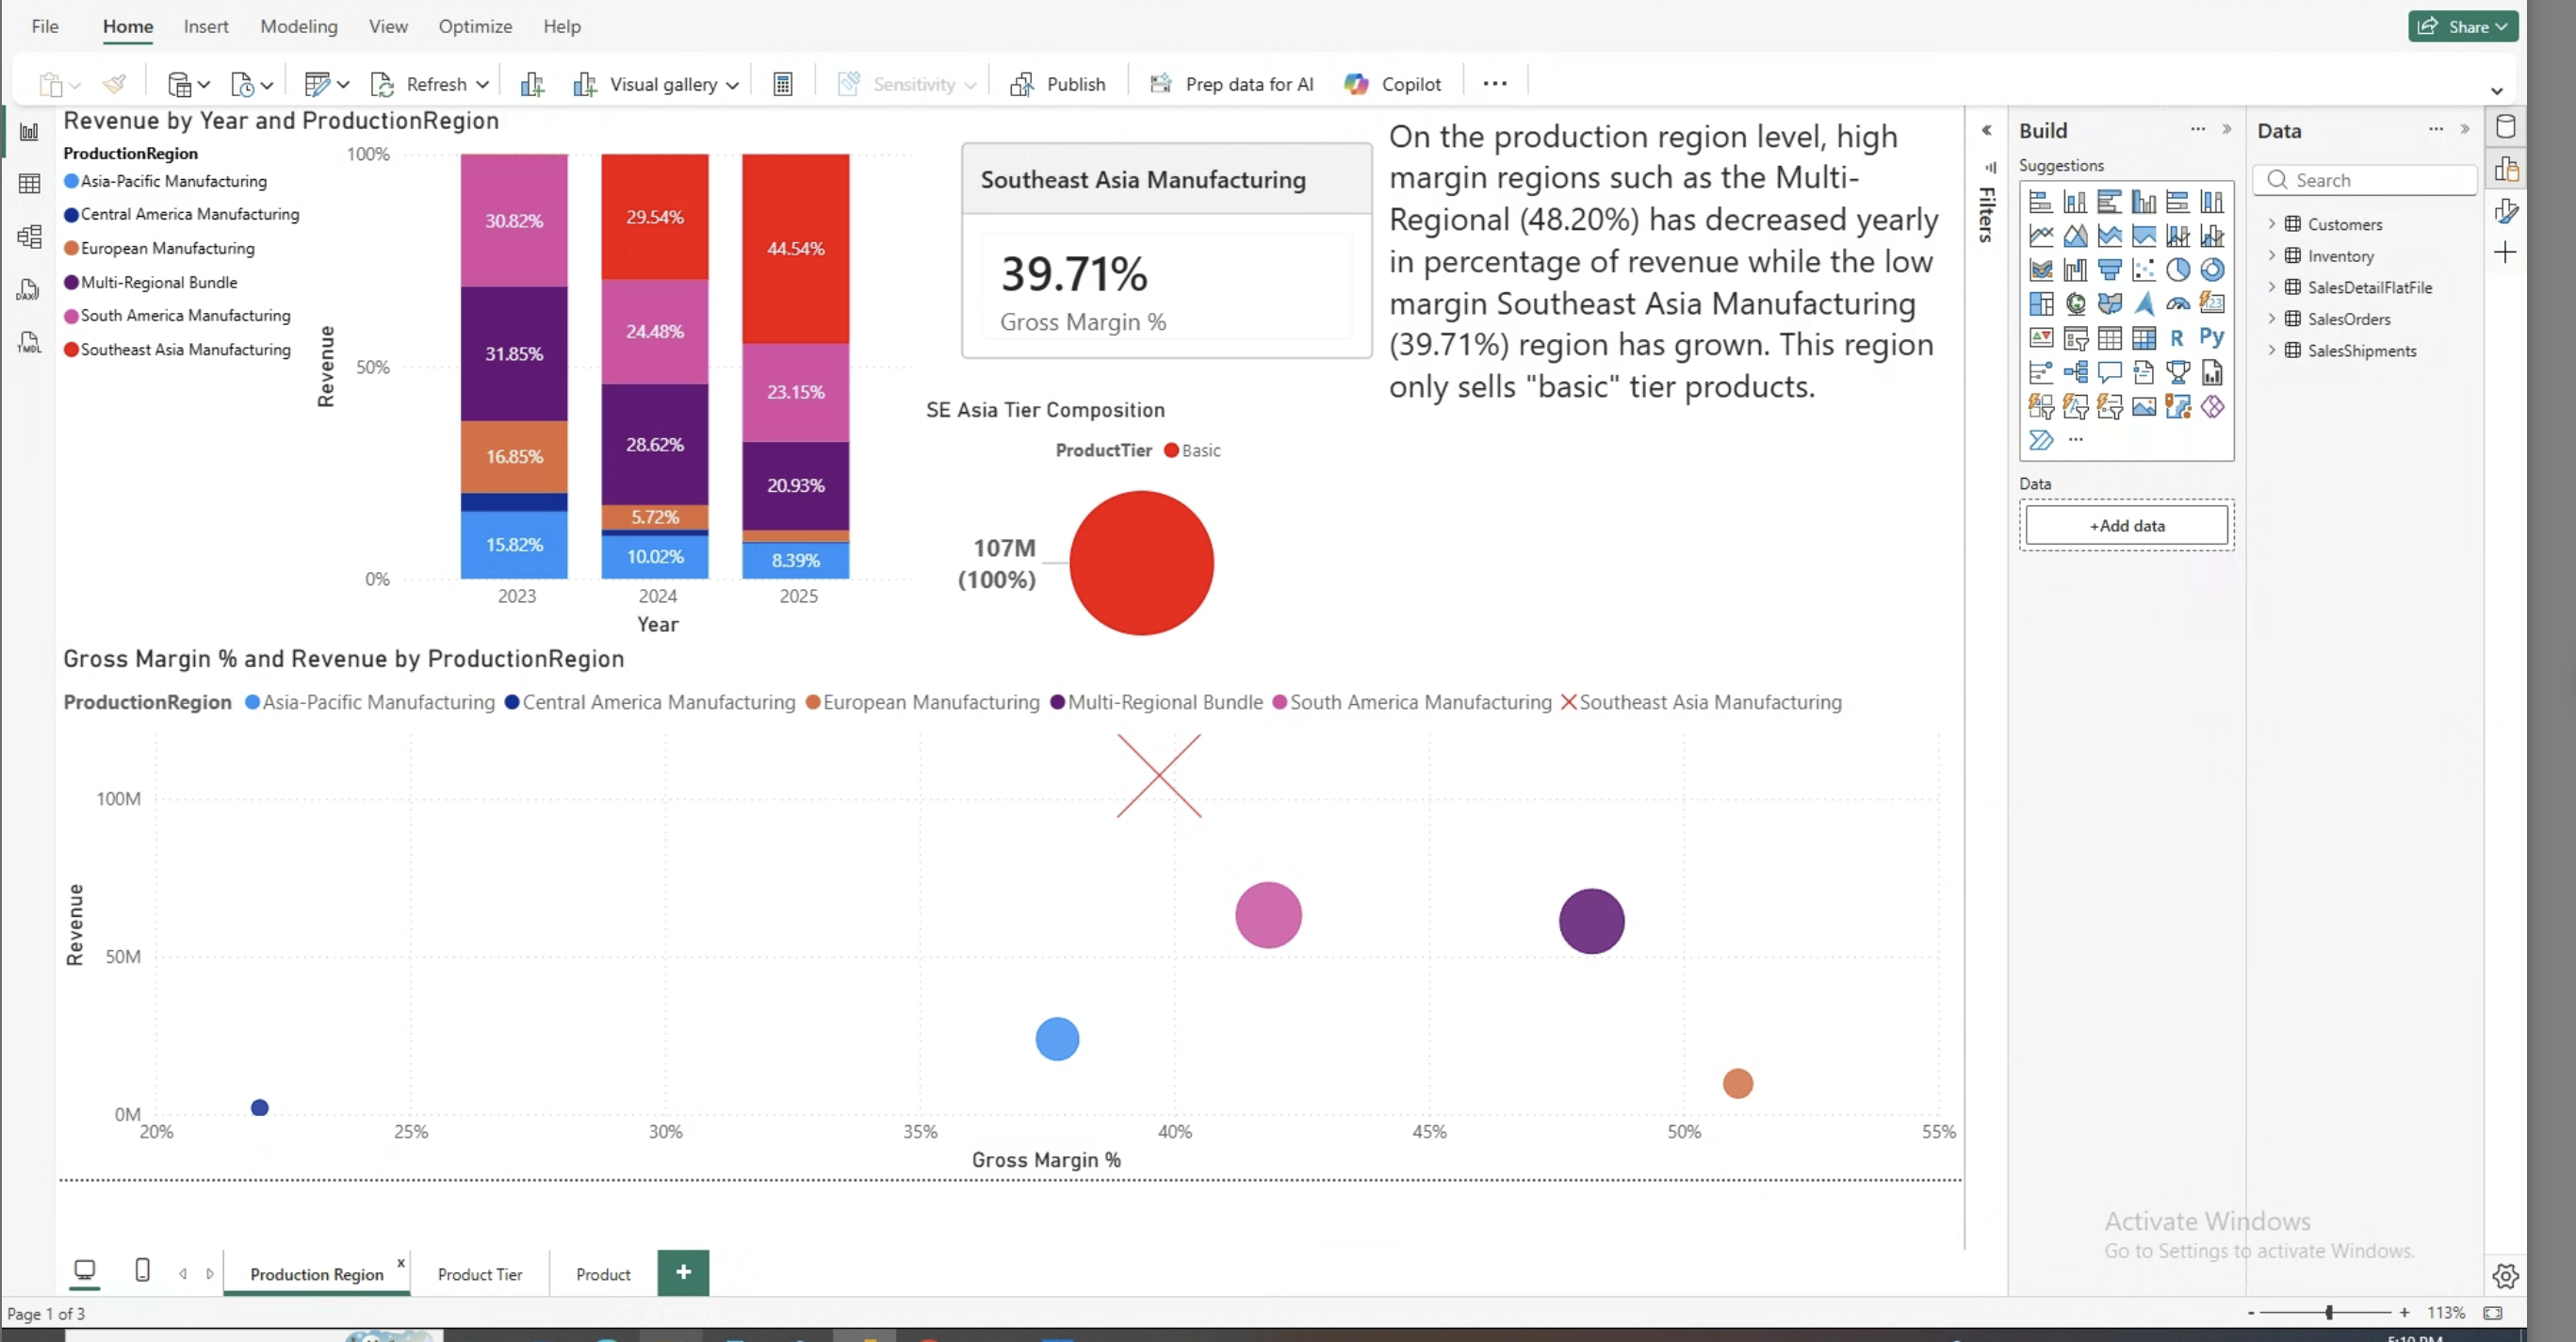

The dashboard page shown, as its layout file describes it:
{"tool":"powerbi","page":{"name":"Production Region","canvas":[1280,720],"ordinal":0},"visuals":[{"type":"hundredPercentStackedColumnChart","fields":{"Category":["SalesOrders.SalesOrderDate.Variation.Date Hierarchy.Year"],"Series":["Inventory.ProductionRegion"],"Y":["SalesOrders.Revenue"]},"box":[0,0,579.1,360.5],"z":0},{"type":"scatterChart","title":"Gross Margin % and Revenue by ProductionRegion","fields":{"X":["SalesOrders.Gross Margin %"],"Y":["SalesOrders.Revenue"],"Category":["Inventory.ProductionRegion"],"Series":["Inventory.ProductionRegion"],"Size":["SalesOrders.Revenue"]},"box":[0,360.5,1279.7,359],"z":1000},{"type":"cardVisual","fields":{"Data":["SalesOrders.Gross Margin %"],"Rows":["Inventory.ProductionRegion"]},"box":[602.2,0,286.6,195.4],"z":2000},{"type":"pieChart","title":"SE Asia Tier Composition","fields":{"Y":["SalesOrders.Revenue"],"Series":["Inventory.ProductTier"]},"box":[579.1,195.4,299.7,178.1],"z":3000},{"type":"textbox","box":[888.9,0,390.9,360.5],"z":4000}]}

Visuals, with their boxes on the page's 1280x720 design canvas (x1, y1, x2, y2). These are canvas units, not pixel positions in the 2576x1342 screenshot, which may show the page scaled, cropped or inside an application window:
hundredPercentStackedColumnChart - SalesOrders.SalesOrderDate.Variation.Date Hierarchy.Year x Inventory.ProductionRegion: (x1=0, y1=0, x2=579, y2=360)
"Gross Margin % and Revenue by ProductionRegion" scatterChart: (x1=0, y1=360, x2=1280, y2=720)
cardVisual - SalesOrders.Gross Margin % x Inventory.ProductionRegion: (x1=602, y1=0, x2=889, y2=195)
"SE Asia Tier Composition" pieChart: (x1=579, y1=195, x2=879, y2=374)
textbox: (x1=889, y1=0, x2=1280, y2=360)
